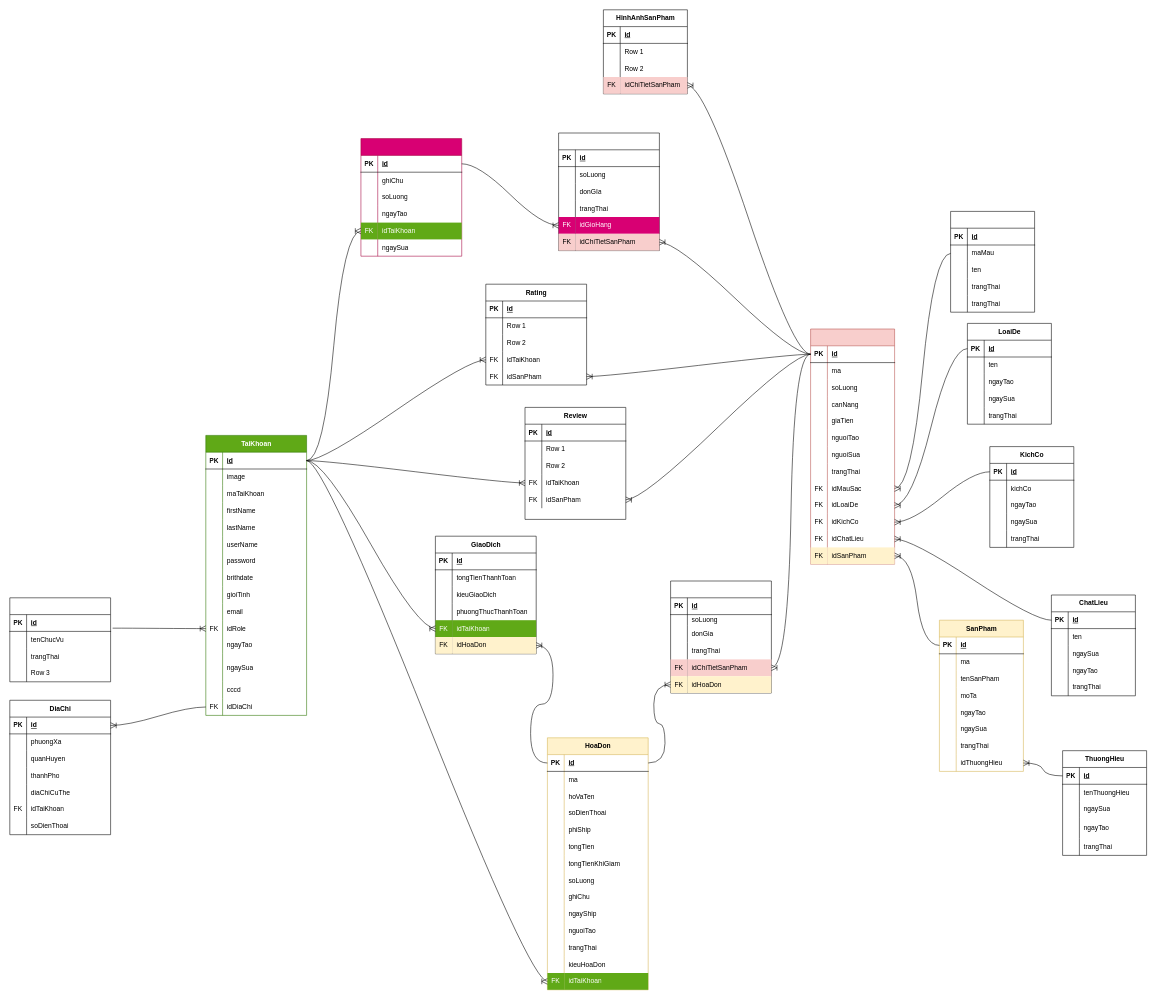
This 1156x1000 diagram has some shape labels left out. The shapes that lost their labels are listed below. From the top down, each one's box as (x1, y1, x2, y2) in pixels, then its label:
(360, 138, 462, 256): GioHang
(558, 132, 659, 251): GioHangChiTiet
(950, 211, 1035, 312): MauSac
(810, 328, 895, 564): ChiTietSanPham
(9, 597, 111, 682): Role
(670, 580, 771, 693): HoaDonChiTiet
